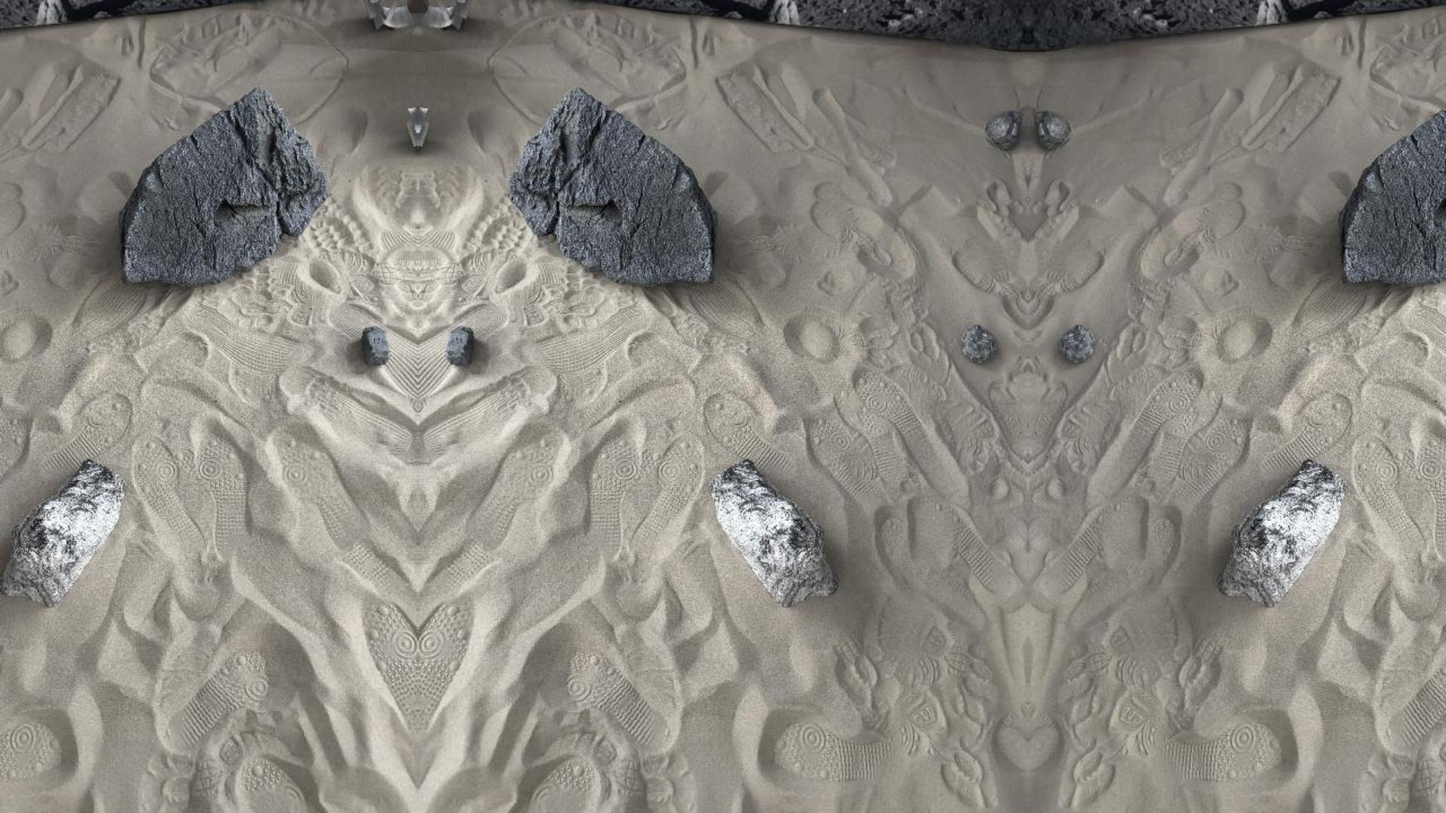rock: (508, 88, 715, 283), (120, 88, 326, 283), (711, 460, 838, 606), (1218, 460, 1343, 606), (1340, 110, 1445, 283), (0, 460, 123, 606), (1057, 324, 1097, 364), (1035, 110, 1071, 150), (985, 110, 1020, 151), (960, 324, 996, 362), (445, 326, 473, 366), (362, 326, 390, 365)
